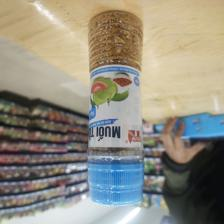TayNinh_blue: (85, 9, 147, 207)
